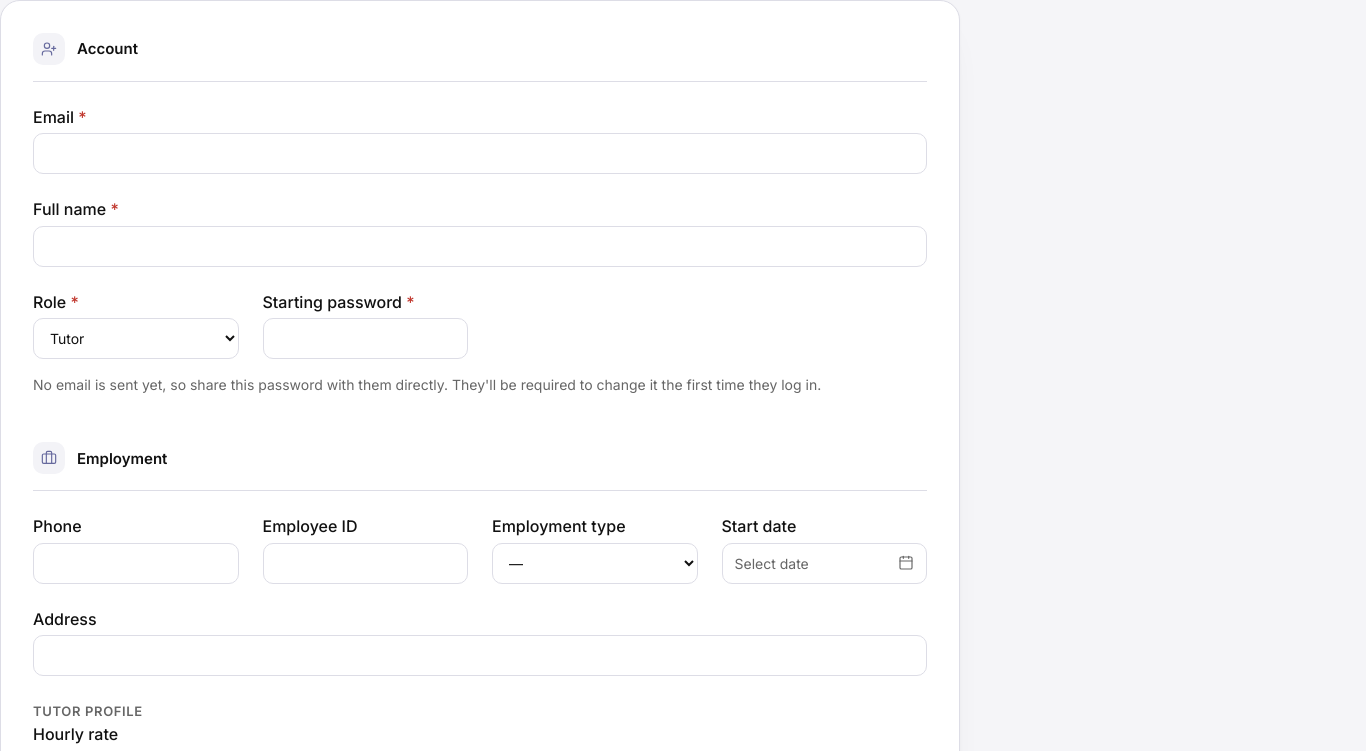
CreateUserPage role dropdown gating › tutor-profile fields are hidden by default for a non-Tutor role and appear once "also teaches" is checked
Select "Admin" in the dropdown labelled "Role" at (136, 338), box [33,318,238,359]
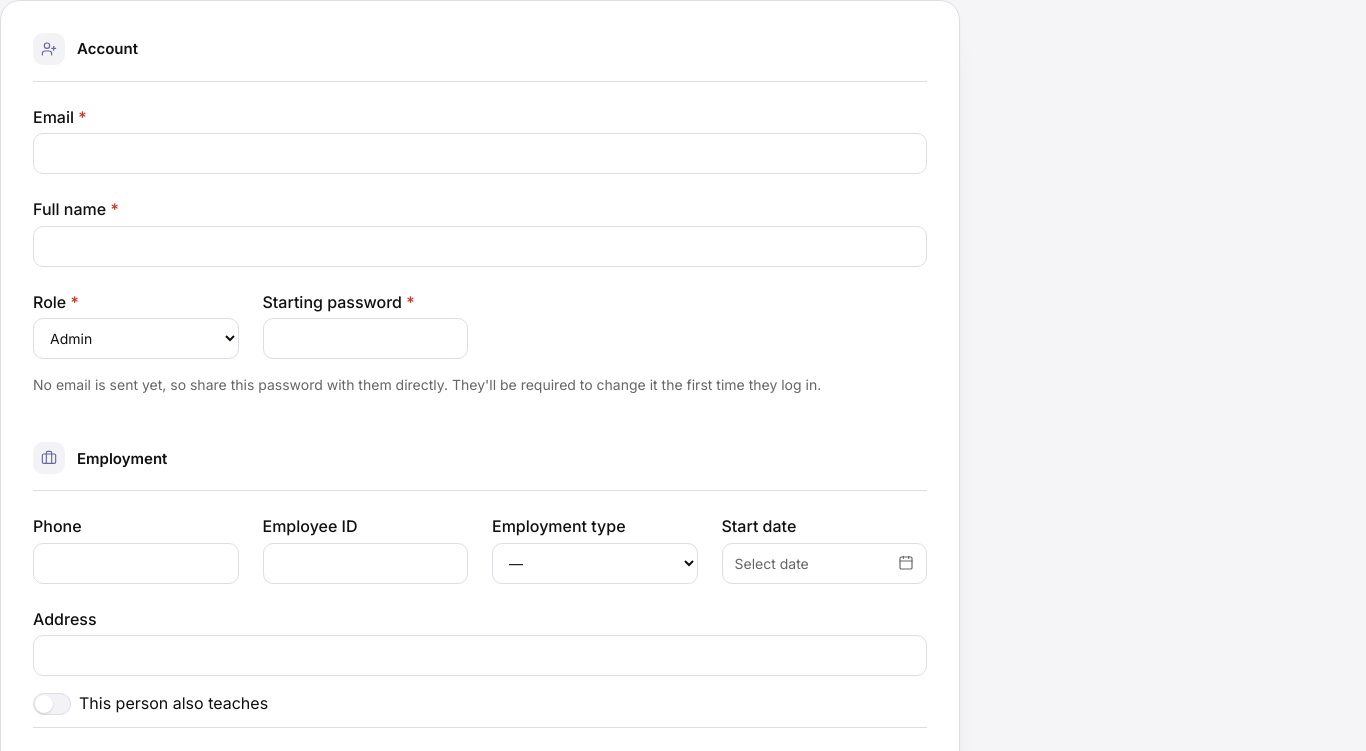
Expected: the label labelled "Hourly rate" is gone
Expected: the checkbox labelled "This person also teaches" is shown, [33,693,71,715]
